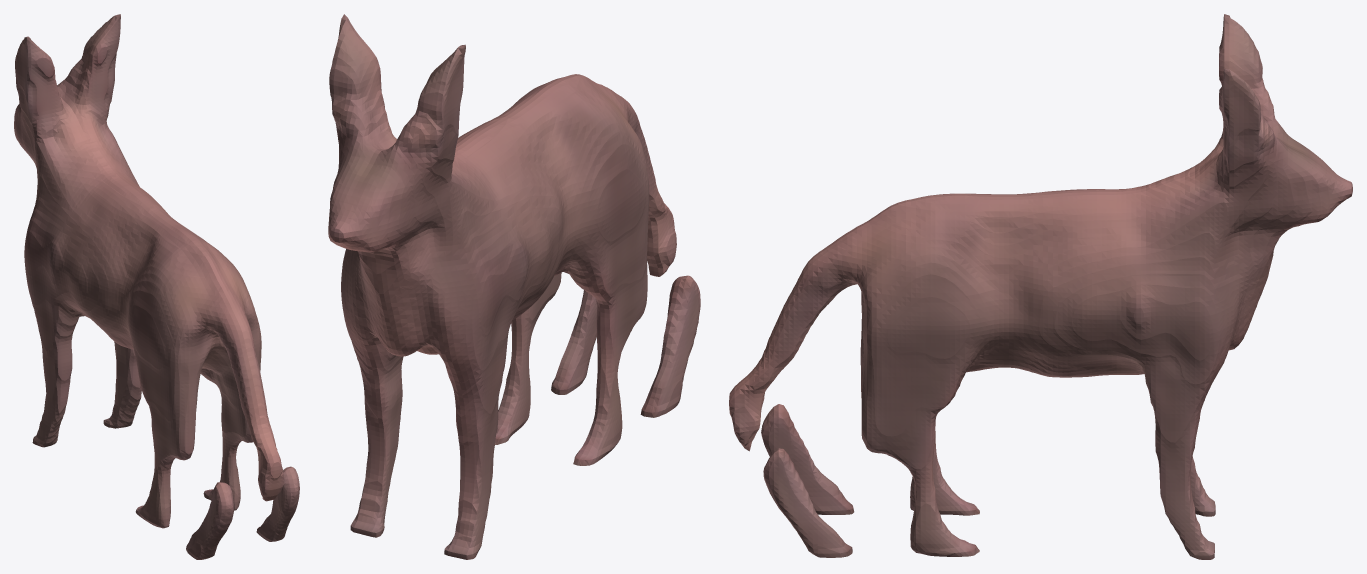
The picture shows the model from 3 angles, left to right: view 1: azimuth 30°, elevation 25°; view 2: azimuth 150°, elevation 25°; view 3: azimuth 270°, elevation 25°; orthographic projection. The views are drawn at different scales.
Parts seen in each view (by area): view 1: tmpjjme1hsj.ply; view 2: tmpjjme1hsj.ply; view 3: tmpjjme1hsj.ply.
Boxes of the visible parts, x1=… form: tmpjjme1hsj.ply: x1=14, y1=14, x2=299, y2=559; tmpjjme1hsj.ply: x1=328, y1=14, x2=700, y2=559; tmpjjme1hsj.ply: x1=729, y1=14, x2=1352, y2=559.
Bounding box in the file's own units: 0.5143 × 1.72 × 1.98.
